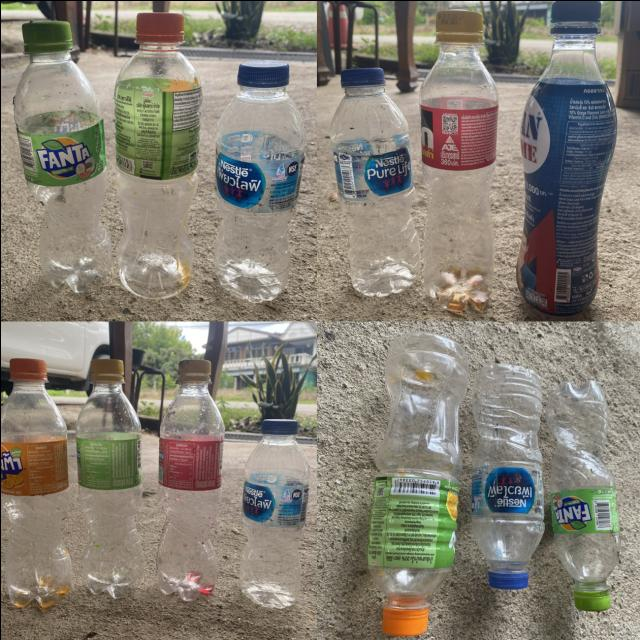plastik: (515, 0, 616, 315), (365, 332, 467, 635), (12, 20, 110, 291), (114, 12, 200, 298), (419, 8, 498, 314), (213, 59, 305, 301), (330, 67, 420, 294), (0, 357, 71, 606), (545, 380, 619, 610), (471, 362, 543, 588), (75, 359, 143, 597), (156, 359, 223, 600), (240, 418, 308, 607)
